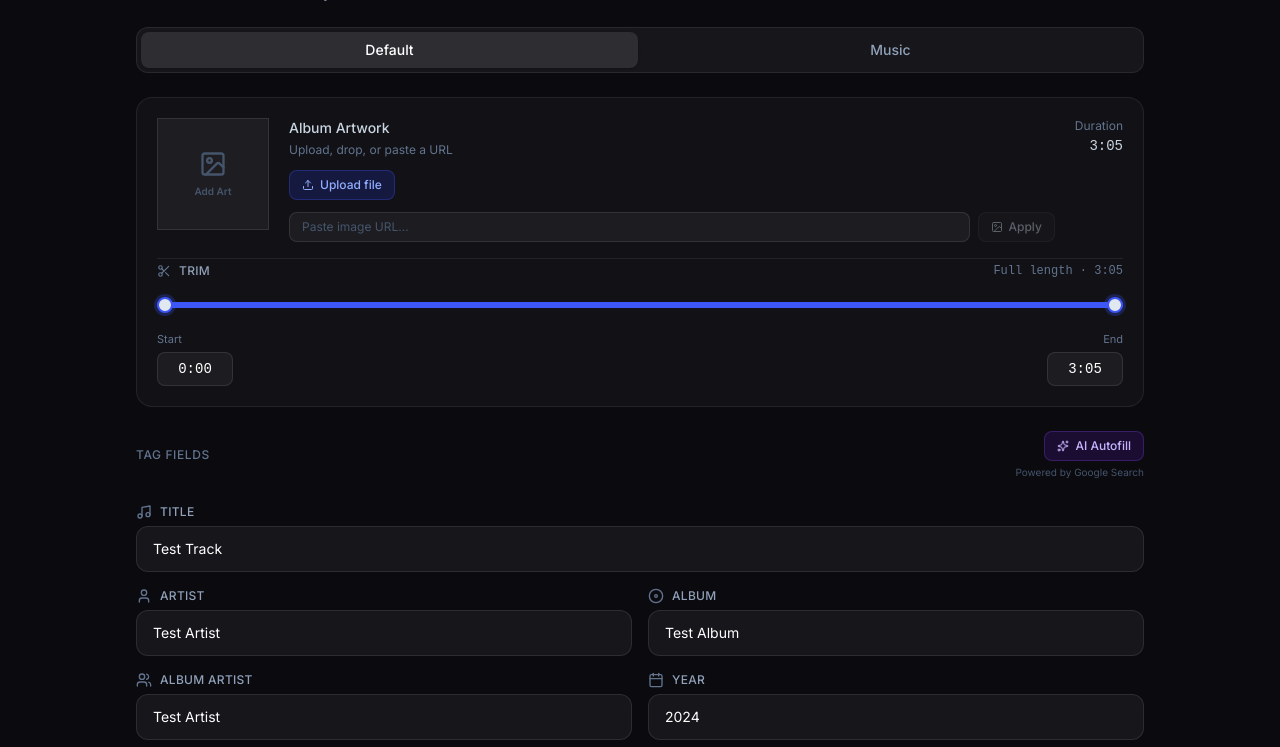
TagEditor field editing › updates the filename preview when album artist changes
Replace the text in the field with placeholder "Album artist name" below "Album Artist" with "New Album Artist" at {"x": 384, "y": 716}, box [136,694,632,740]
(page scrolled)
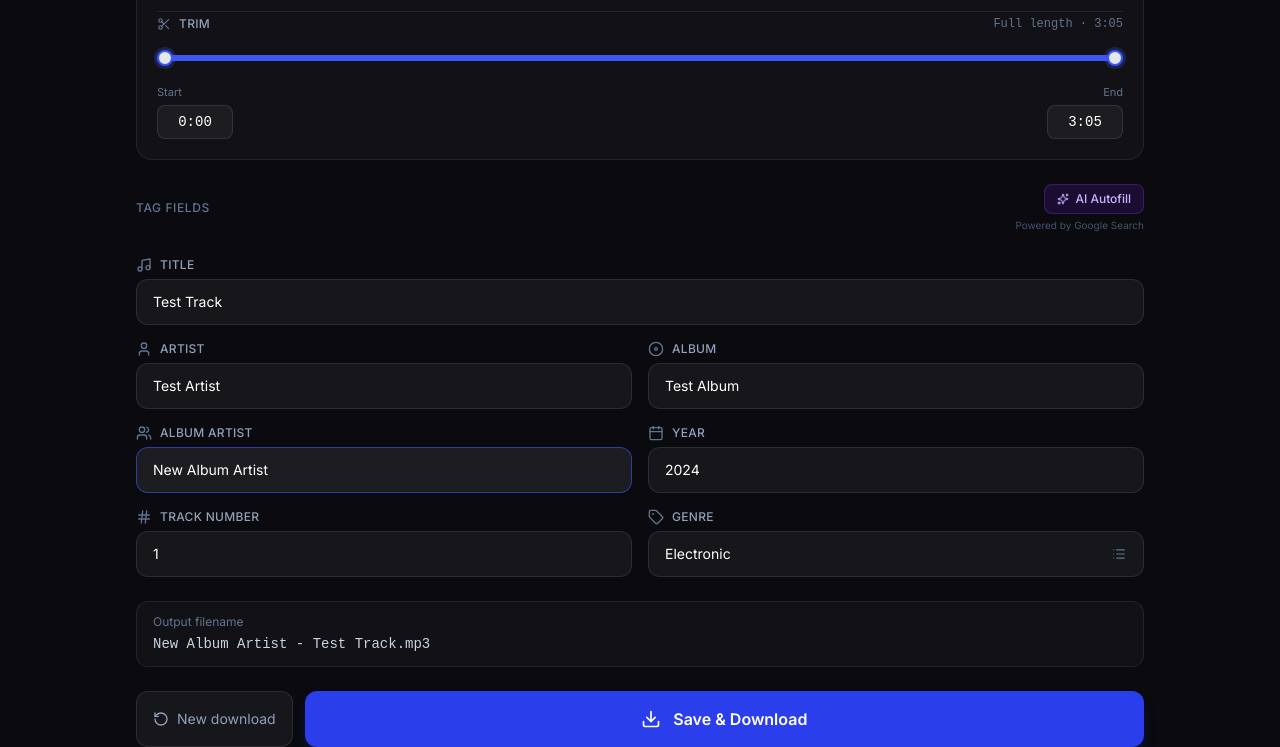
Now the text "New Album Artist - Test Track.mp3" is shown, box [153,636,430,652]
